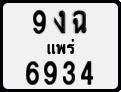letters: (31, 9, 48, 35), (42, 59, 58, 86), (72, 9, 88, 34), (25, 60, 40, 86), (62, 59, 76, 86), (80, 59, 94, 86), (52, 9, 67, 34)
province: (46, 37, 75, 55)
